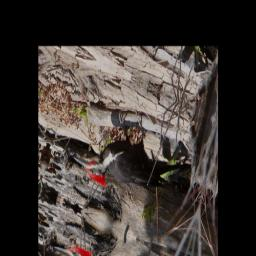Woodpecker: (68, 87, 196, 226)
